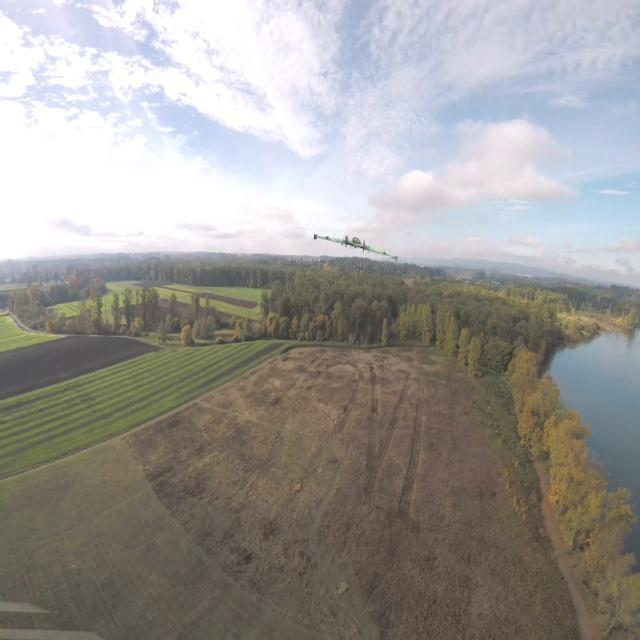iha: (341, 225, 368, 262)
